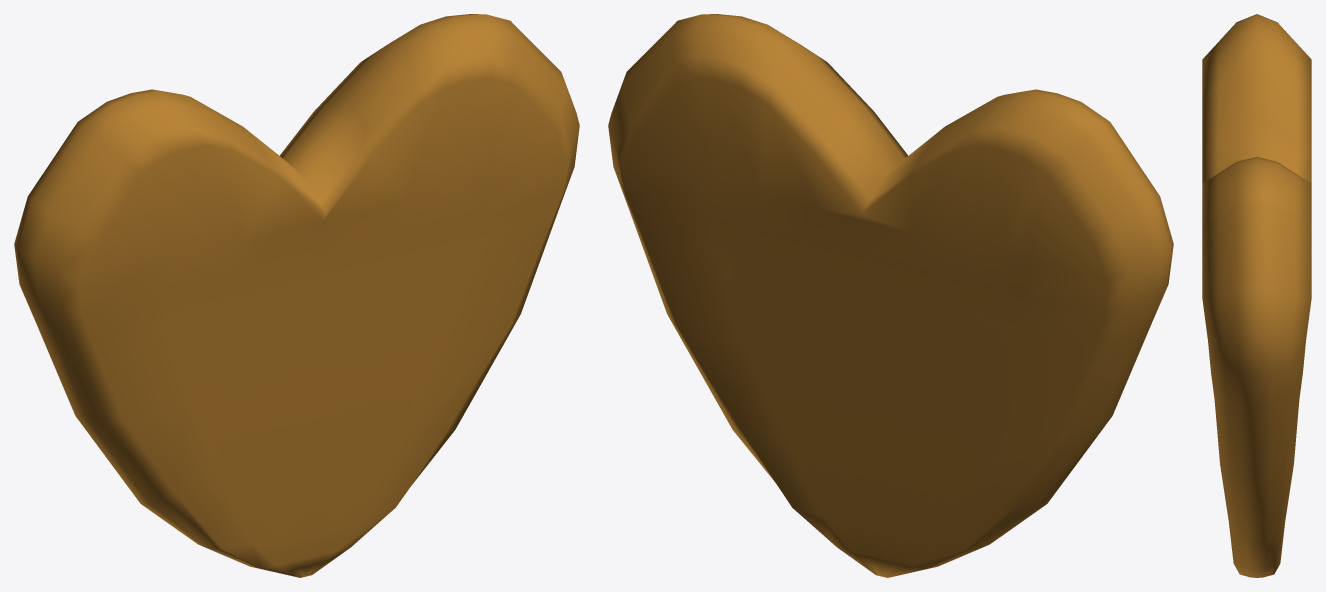
File: corazon dorado.fbx
The picture shows the model from 3 angles, left to right: view 1: azimuth 30°, elevation 25°; view 2: azimuth 150°, elevation 25°; view 3: azimuth 270°, elevation 25°; orthographic projection. The views are drawn at different scales.
Visible parts, largest first — view 1: pCube1; view 2: pCube1; view 3: pCube1.
Part boxes in pixels (x1,y1,x2,y2): pCube1: (14,14,579,577); pCube1: (608,14,1173,577); pCube1: (1202,14,1311,577).
Bounding box in the file's own units: 1.95 × 1.71 × 0.3557.
